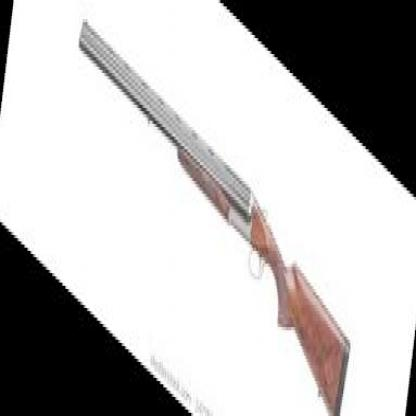rifle: (60, 0, 357, 416)
